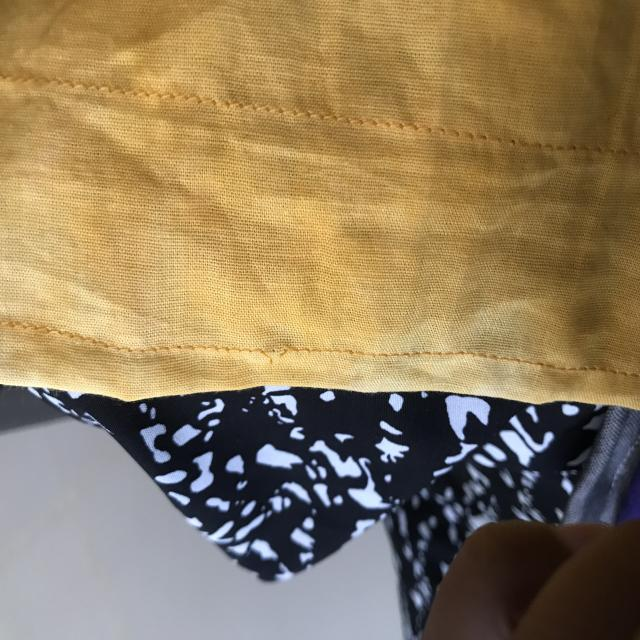broken: (247, 336, 301, 370)
